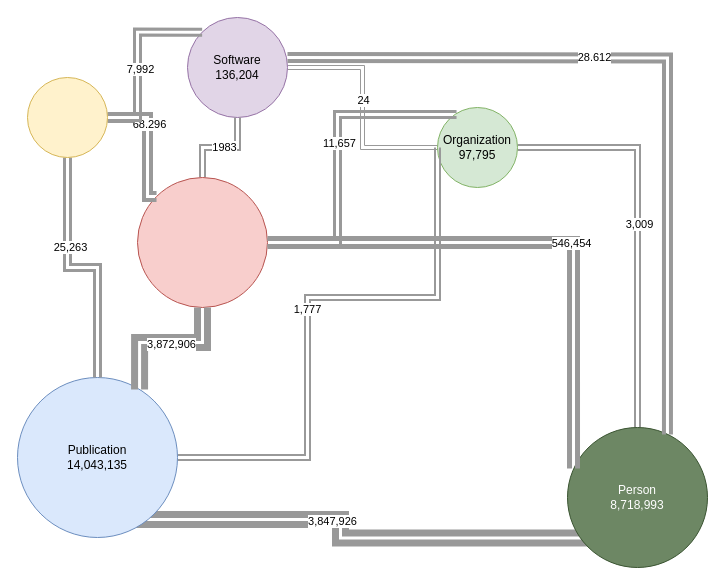
Some shapes in this 725 by 585 pixel diagram are drawn without their labels. Each missing label, with the centre of its shape:
"Dataset 7,524,645" belongs at [202,242].
"Funder 22,357" belongs at [67,117].
